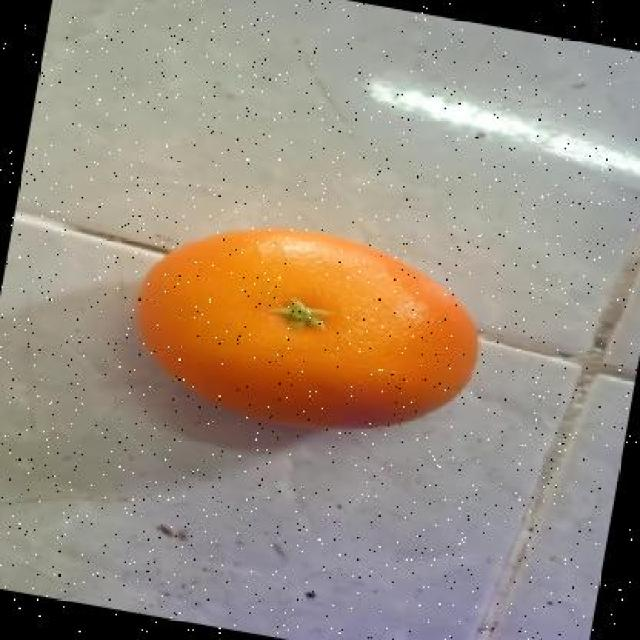Orange: (134, 224, 480, 430)
